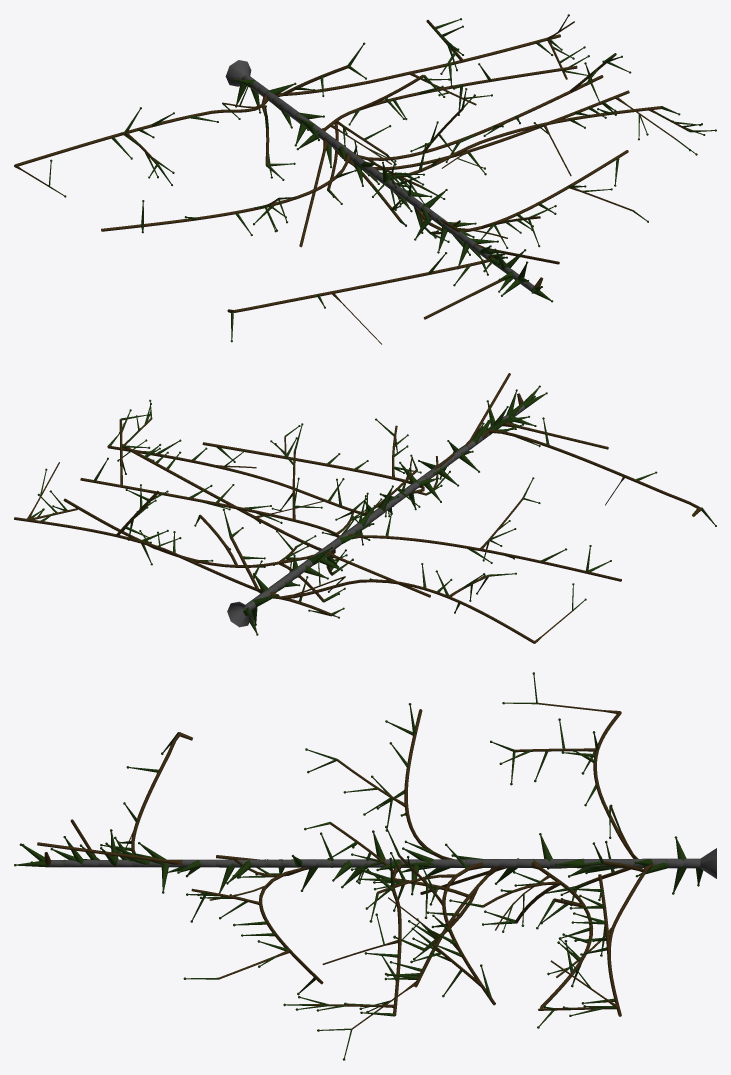
Rendered from tree_4.obj.
3 views of the same model, one above another, from view 1: azimuth 30°, elevation 25°; view 2: azimuth 150°, elevation 25°; view 3: azimuth 270°, elevation 25° (orthographic). The views are drawn at different scales.
Bounding box in the file's own units: 4.38 × 1.01 × 4.21.
